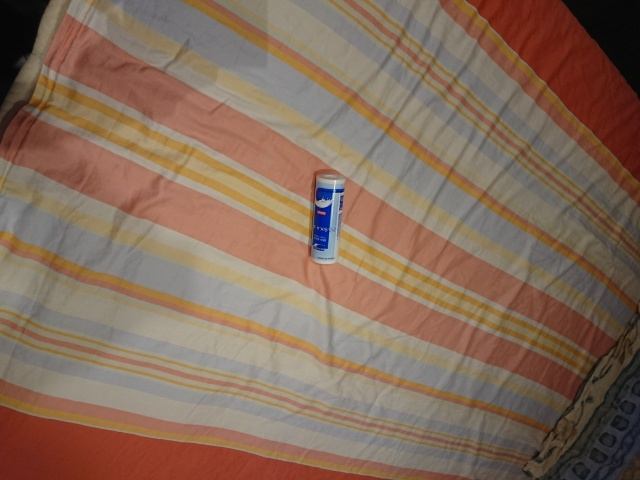Solana Pag Fine Sea Salt 250g: (308, 171, 347, 267)
